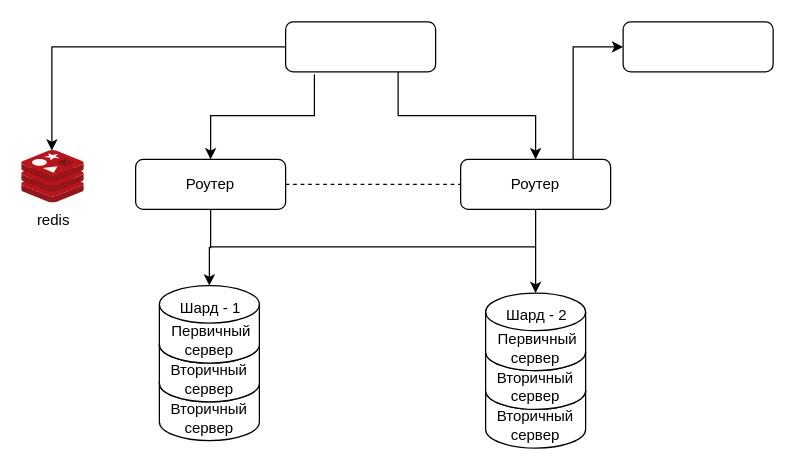
Image size: 795x470. Some labels were removed from this diagram. The shapes that lost their labels are listed below. From the top down, each one's centre as x and y in pixels, then its label:
At point (360, 46): "pymongo-api".
At point (697, 46): "Конфигурационный сервер".
